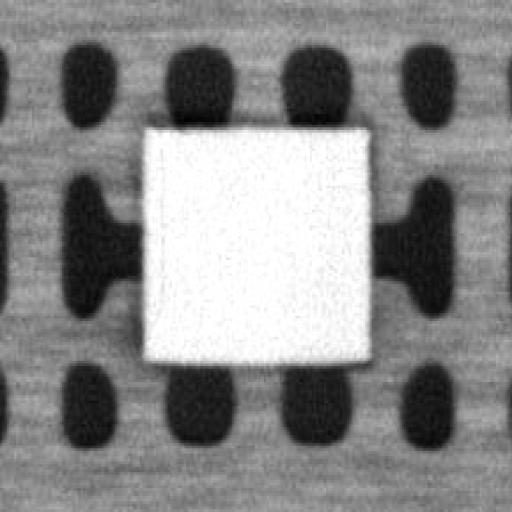DIE_CRACK: (152, 144, 168, 310)
